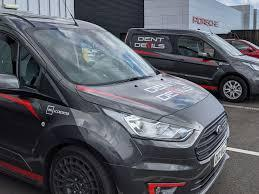dent: (69, 107, 146, 163)
